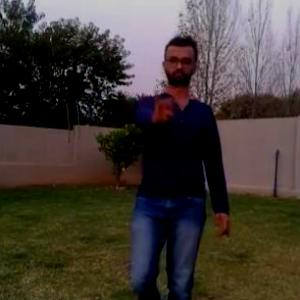takeoff-hand: (150, 84, 184, 122)
